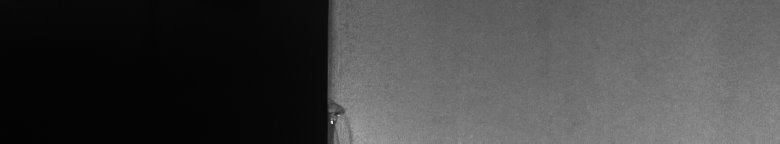hb: (336, 96, 356, 136)
